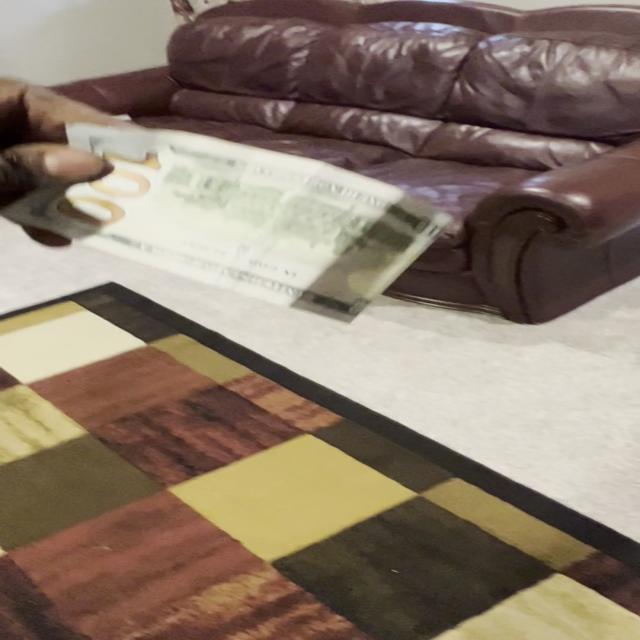hundred: (0, 120, 459, 325)
